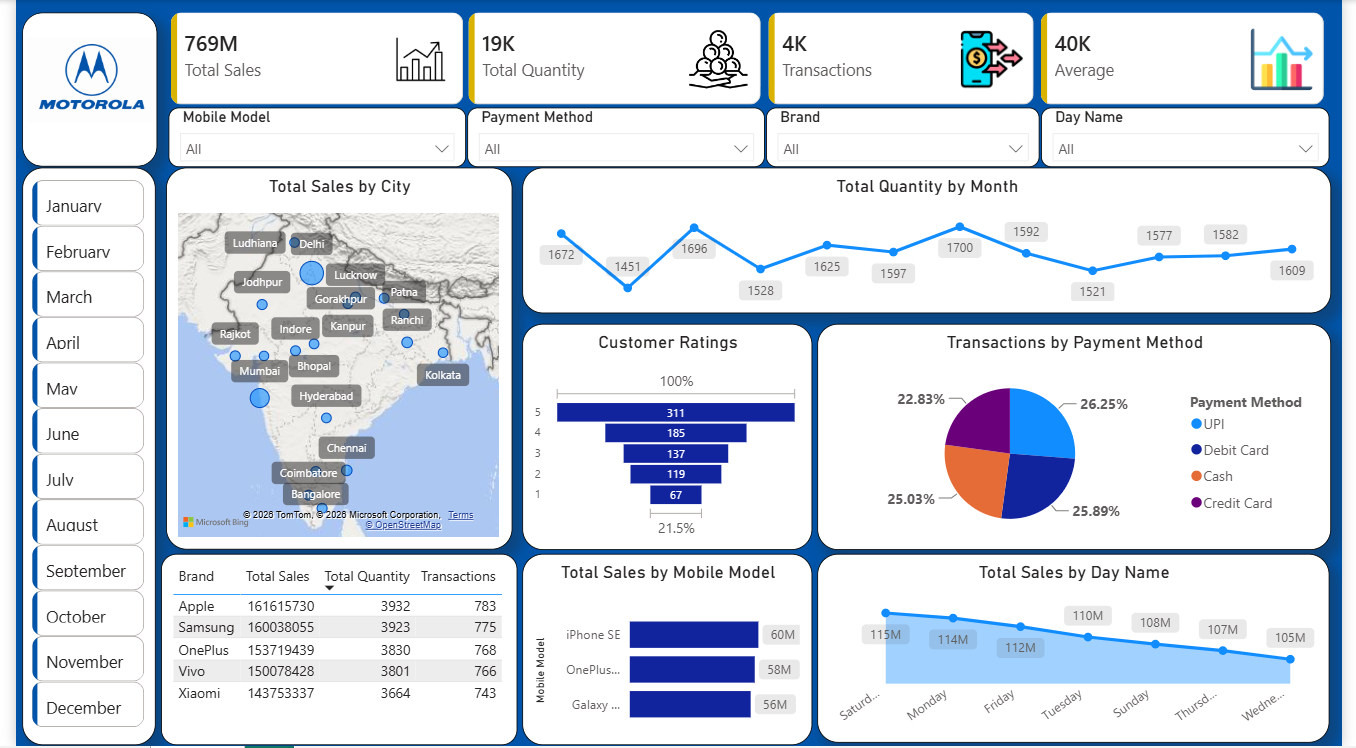

What the dashboard file says about the page in this screenshot:
{"tool":"powerbi","page":{"name":"Page 1","canvas":[1280,720],"ordinal":0},"visuals":[{"type":"shape","box":[6.2,12.5,130,148.8],"z":0},{"type":"image","box":[10.9,21.7,124.3,111],"z":1000},{"type":"shape","box":[6,161.7,129.1,557.4],"z":2000},{"type":"advancedSlicerVisual","fields":{"Values":["Sales_Data.Date.Variation.Date Hierarchy.Month"]},"box":[11.2,168.8,118.2,548.9],"z":3000},{"type":"cardVisual","fields":{"Data":["Sales_Data.Total Sales"]},"box":[132.7,0,316.1,118],"z":4000},{"type":"cardVisual","fields":{"Data":["Sales_Data.Transactions"]},"box":[709.4,0,290.8,118.2],"z":5000},{"type":"cardVisual","fields":{"Data":["Sales_Data.Total Quantity"]},"box":[419.8,0,316.1,118.2],"z":6000},{"type":"cardVisual","fields":{"Data":["Sales_Data.Average"]},"box":[972.4,0,307.6,118.2],"z":7000},{"type":"map","fields":{"Category":["Sales_Data.City"],"Size":["Sales_Data.Total Sales"]},"box":[144.8,161.7,334.2,369.2],"z":8000},{"type":"lineChart","fields":{"Y":["Sales_Data.Total Quantity"],"Category":["Sales_Data.Date.Variation.Date Hierarchy.Month","Sales_Data.Date.Variation.Date Hierarchy.Day"]},"box":[488.6,161.7,780.6,141.2],"z":9000},{"type":"clusteredBarChart","fields":{"Category":["Sales_Data.Mobile Model"],"Y":["Sales_Data.Total Sales"]},"box":[488.6,534.5,279.9,184.6],"z":10000},{"type":"pieChart","fields":{"Category":["Sales_Data.Payment Method"],"Y":["Sales_Data.Transactions"]},"box":[773.3,312.5,495.8,218.4],"z":11000},{"type":"funnel","title":"Customer Ratings","fields":{"Category":["Sales_Data.Customer Ratings"],"Y":["CountNonNull(Sales_Data.Customer Ratings)"]},"box":[488.6,312.5,279.9,218.4],"z":12000},{"type":"areaChart","fields":{"Category":["Sales_Data.Day Name"],"Y":["Sales_Data.Total Sales"]},"box":[773.3,534.5,494.6,182.2],"z":13000},{"type":"tableEx","fields":{"Values":["Sales_Data.Brand","Sales_Data.Total Sales","Sales_Data.Total Quantity","Sales_Data.Transactions"]},"box":[139.9,534.5,343.8,184.6],"z":14000},{"type":"slicer","fields":{"Values":["Sales_Data.Mobile Model"]},"box":[147.2,103.8,287.1,57.9],"z":15000},{"type":"slicer","fields":{"Values":["Sales_Data.Payment Method"]},"box":[435,103.8,287.5,57.5],"z":16000},{"type":"slicer","fields":{"Values":["Sales_Data.Brand"]},"box":[723.9,103.8,264.2,57.9],"z":17000},{"type":"slicer","fields":{"Values":["Sales_Data.Day Name"]},"box":[989.3,103.8,278.7,57.9],"z":18000}]}

Visuals, with their boxes in screenshot pixels (x1, y1, x2, y2), scaled from the page's 1280x720 canvas onto the 1356x748 screenshot:
shape: <bbox>7, 13, 144, 168</bbox>
image: <bbox>12, 23, 143, 138</bbox>
shape: <bbox>6, 168, 143, 747</bbox>
advancedSlicerVisual - Sales_Data.Date.Variation.Date Hierarchy.Month: <bbox>12, 175, 137, 746</bbox>
cardVisual - Sales_Data.Total Sales: <bbox>141, 0, 475, 123</bbox>
cardVisual - Sales_Data.Transactions: <bbox>752, 0, 1060, 123</bbox>
cardVisual - Sales_Data.Total Quantity: <bbox>445, 0, 780, 123</bbox>
cardVisual - Sales_Data.Average: <bbox>1030, 0, 1355, 123</bbox>
map - Sales_Data.City x Sales_Data.Total Sales: <bbox>153, 168, 507, 552</bbox>
lineChart - Sales_Data.Total Quantity x Sales_Data.Date.Variation.Date Hierarchy.Month: <bbox>518, 168, 1345, 315</bbox>
clusteredBarChart - Sales_Data.Mobile Model x Sales_Data.Total Sales: <bbox>518, 555, 814, 747</bbox>
pieChart - Sales_Data.Payment Method x Sales_Data.Transactions: <bbox>819, 325, 1344, 552</bbox>
"Customer Ratings" funnel: <bbox>518, 325, 814, 552</bbox>
areaChart - Sales_Data.Day Name x Sales_Data.Total Sales: <bbox>819, 555, 1343, 745</bbox>
tableEx - Sales_Data.Brand x Sales_Data.Total Sales: <bbox>148, 555, 512, 747</bbox>
slicer - Sales_Data.Mobile Model: <bbox>156, 108, 460, 168</bbox>
slicer - Sales_Data.Payment Method: <bbox>461, 108, 765, 168</bbox>
slicer - Sales_Data.Brand: <bbox>767, 108, 1047, 168</bbox>
slicer - Sales_Data.Day Name: <bbox>1048, 108, 1343, 168</bbox>
